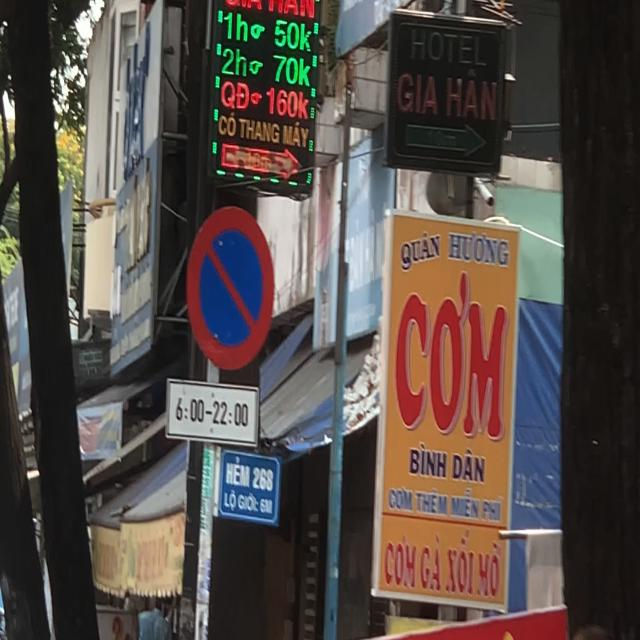Cam do: (186, 207, 275, 371)
